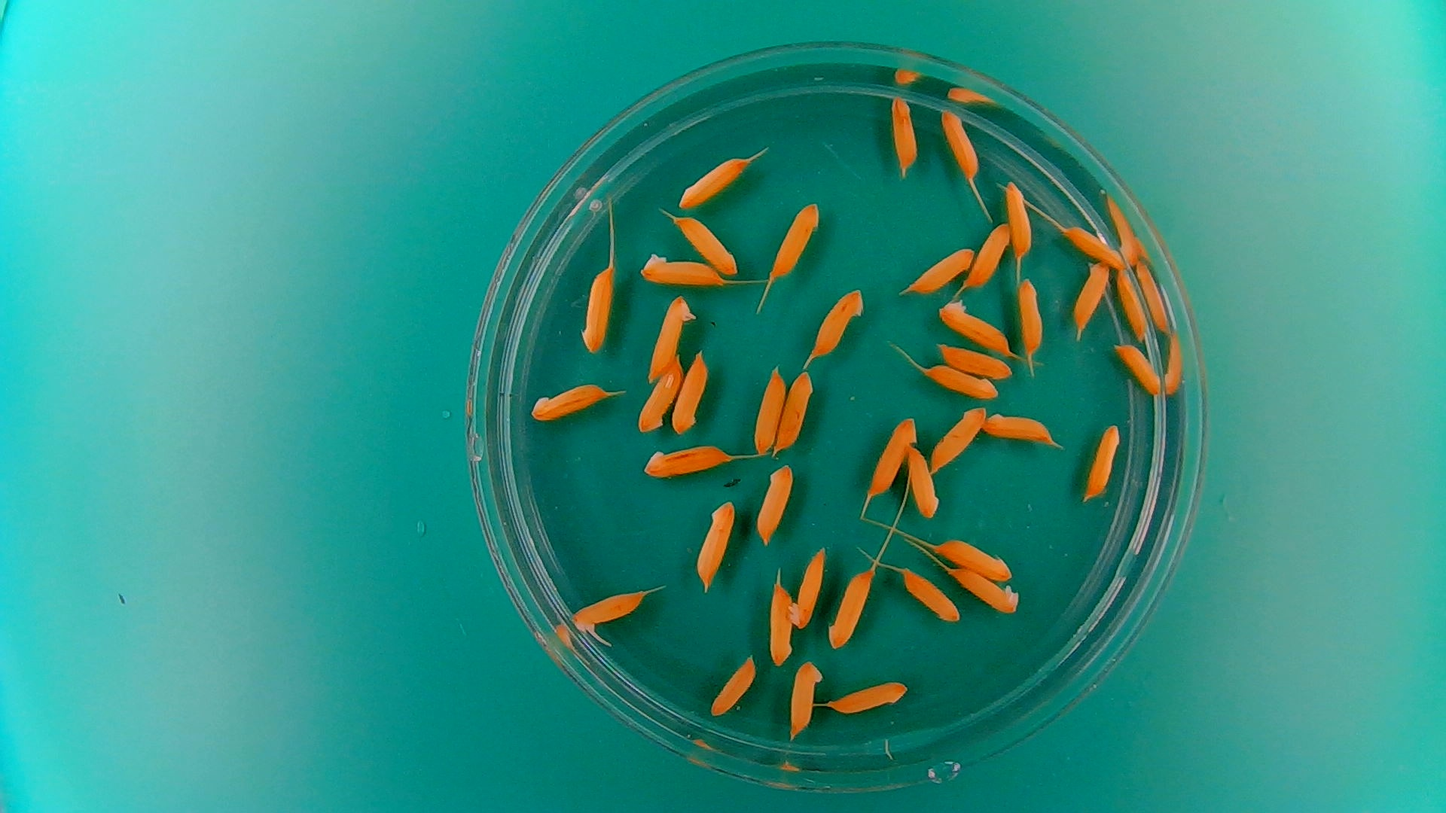no: (936, 297, 1014, 355), (691, 495, 737, 592), (676, 152, 752, 209), (868, 413, 918, 498), (825, 565, 874, 651), (929, 403, 987, 474), (809, 285, 865, 358), (673, 215, 740, 276), (635, 354, 685, 434), (770, 199, 820, 278), (931, 534, 1015, 581), (947, 565, 1022, 616), (898, 565, 962, 624), (642, 440, 734, 481), (901, 244, 976, 294), (528, 379, 613, 423), (635, 248, 728, 288), (578, 260, 615, 354), (789, 543, 828, 632), (754, 461, 795, 545), (979, 408, 1063, 449), (775, 368, 815, 454), (670, 347, 709, 435), (752, 364, 788, 458), (827, 676, 911, 716), (708, 653, 758, 720), (1082, 420, 1122, 503), (938, 105, 981, 180), (786, 656, 824, 740), (966, 220, 1012, 289), (1060, 222, 1126, 270), (933, 343, 1014, 379), (1071, 259, 1109, 335), (904, 442, 941, 520), (1112, 340, 1162, 397), (1114, 266, 1151, 343), (923, 363, 998, 400), (766, 575, 795, 668), (887, 92, 920, 173), (1002, 177, 1034, 259), (1017, 276, 1047, 358)
yes: (644, 292, 699, 382), (569, 586, 650, 638)
